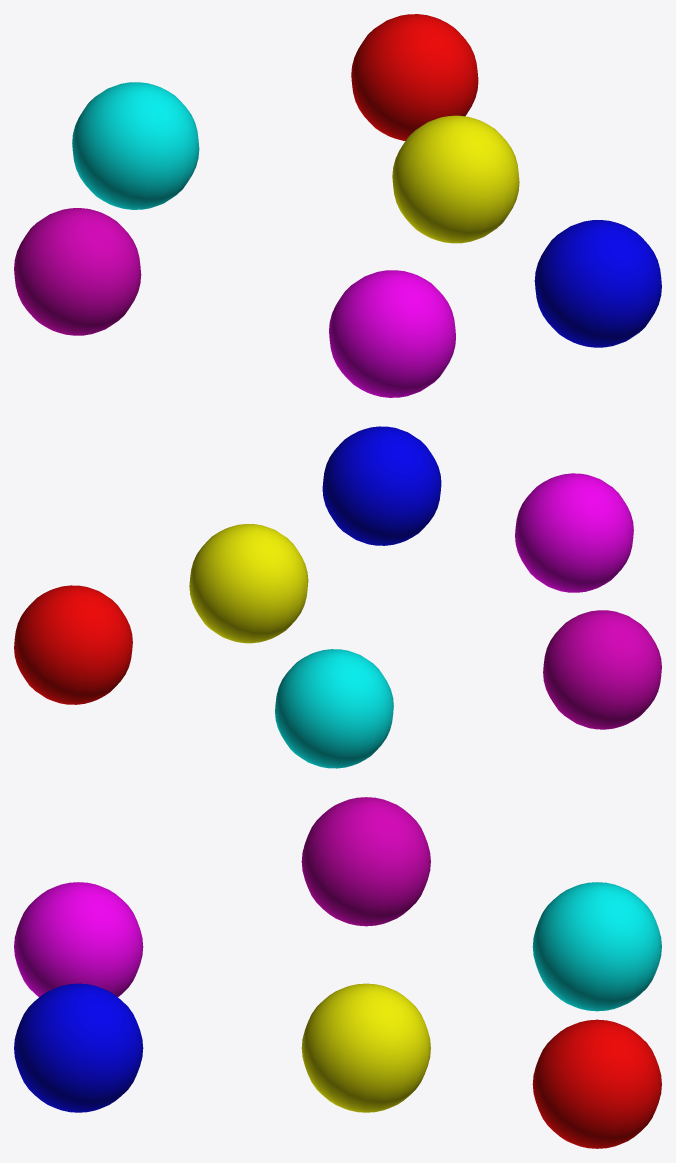
File: TestC_1.fbx
The picture shows the model from 3 angles, top to bottom: view 1: azimuth 30°, elevation 25°; view 2: azimuth 150°, elevation 25°; view 3: azimuth 270°, elevation 25°; orthographic projection. The views are drawn at different scales.
Parts seen in each view (by area): view 1: polySurface1; view 2: polySurface1; view 3: polySurface1.
Boxes of the visible parts, bbox=[...] form: polySurface1: bbox=[14, 14, 661, 397]; polySurface1: bbox=[14, 426, 661, 768]; polySurface1: bbox=[14, 797, 661, 1148].
Size of the model in its own units: 9.12 by 1.8 by 9.01.
